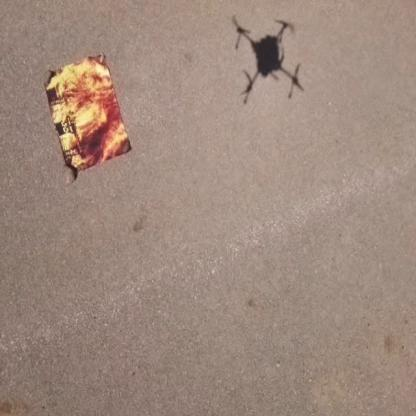fire-poster: (42, 51, 133, 179)
